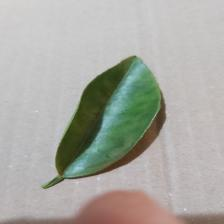greening: (41, 52, 165, 191)
